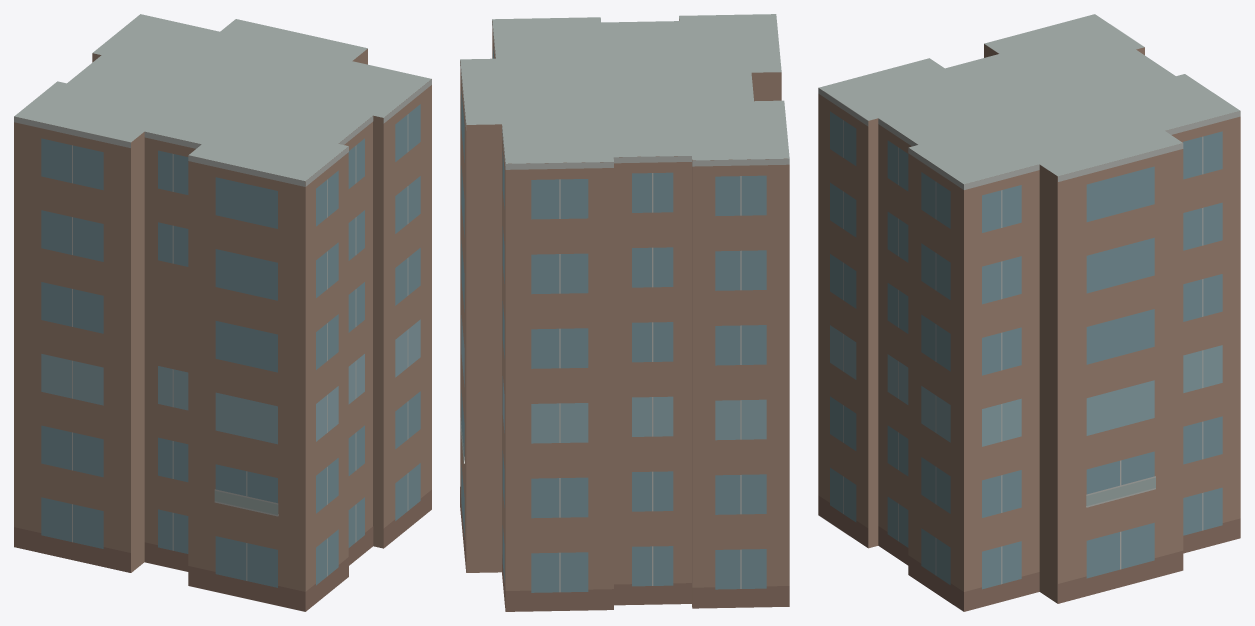
The model's file is survey-upis-32970417.glb.
The picture shows the model from 3 angles, left to right: view 1: azimuth 30°, elevation 25°; view 2: azimuth 150°, elevation 25°; view 3: azimuth 270°, elevation 25°; orthographic projection. The views are drawn at different scales.
Visible parts, largest first — view 1: survey-upis-32970417.tmp; view 2: survey-upis-32970417.tmp; view 3: survey-upis-32970417.tmp.
Part boxes in pixels (x1=…): survey-upis-32970417.tmp: x1=14, y1=14, x2=431, y2=611; survey-upis-32970417.tmp: x1=460, y1=14, x2=789, y2=611; survey-upis-32970417.tmp: x1=818, y1=14, x2=1240, y2=611.
Size of the model in its own units: 15.4 by 18 by 16.11.
